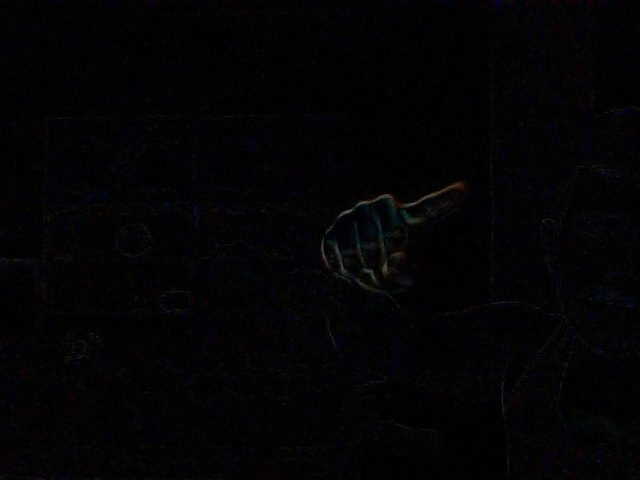hand_po: (308, 158, 494, 304)
